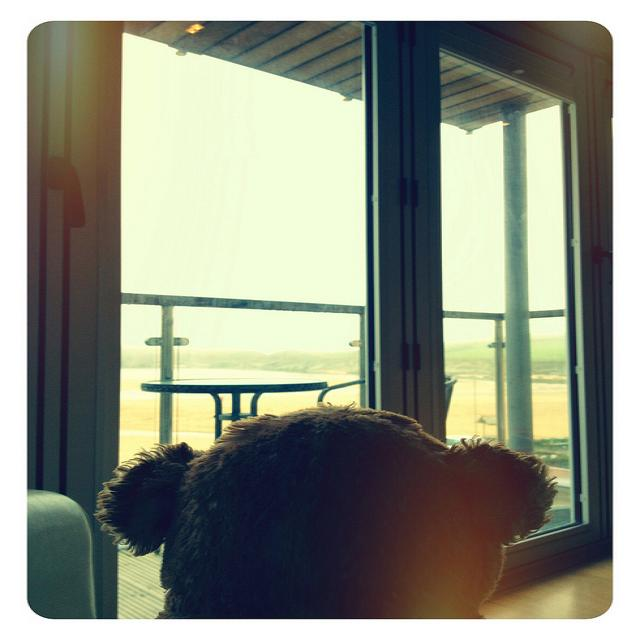chair: (317, 375, 455, 422)
dining table: (140, 378, 335, 404)
